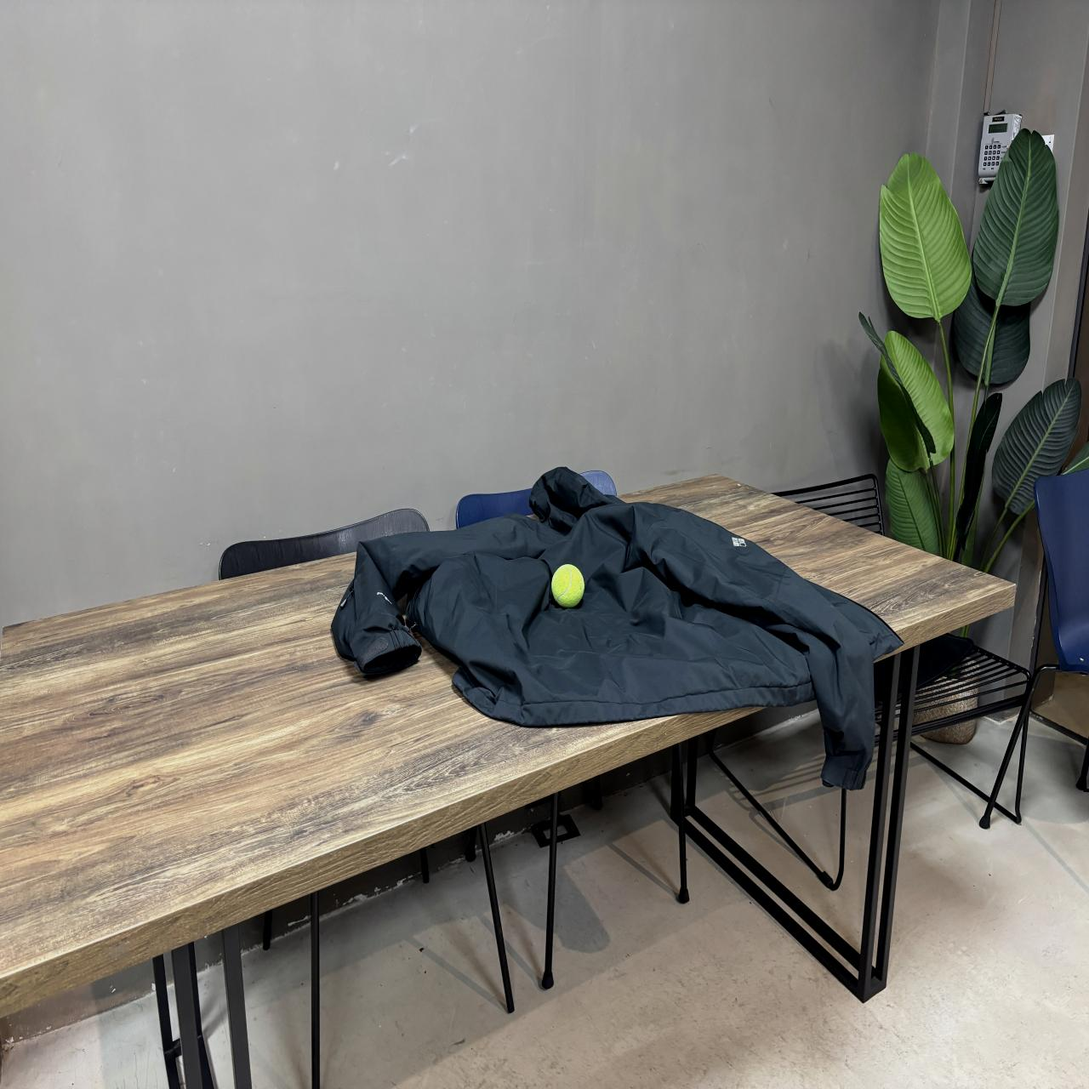tennisball: (551, 564, 584, 607)
